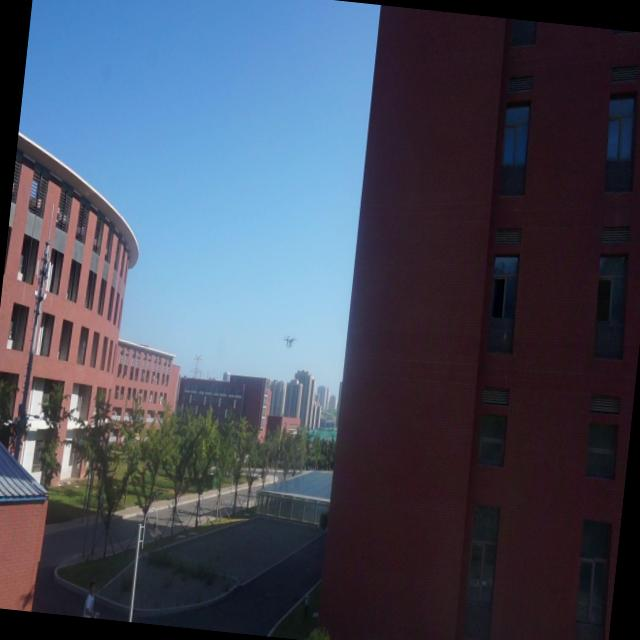drone: (281, 330, 297, 351)
